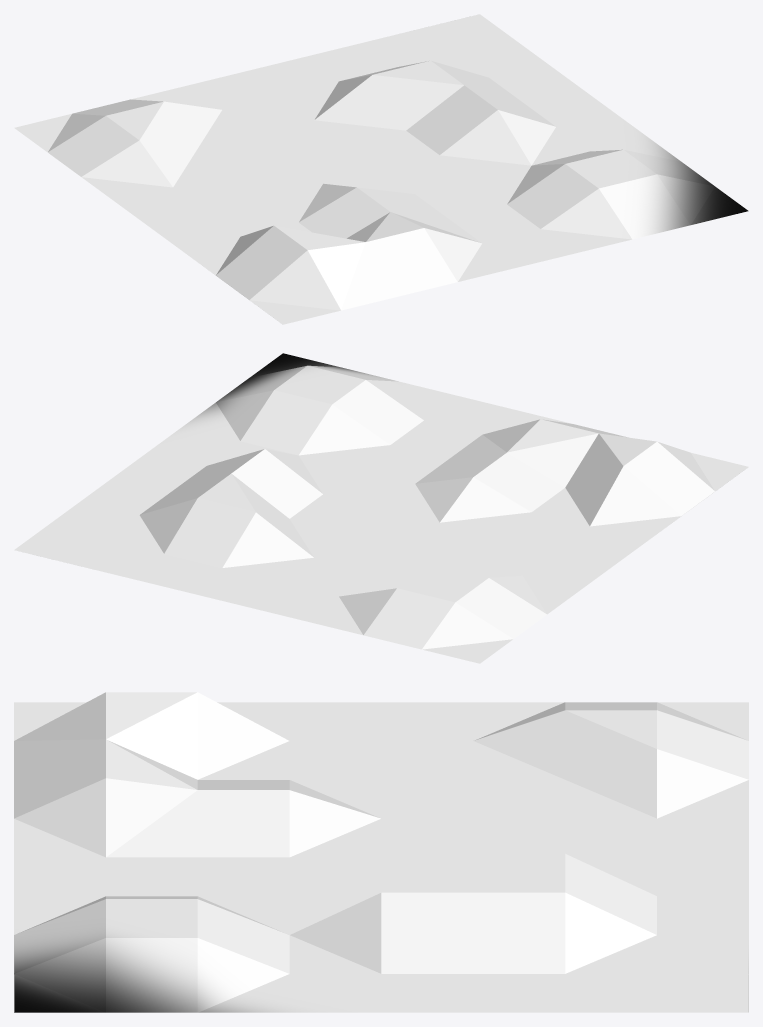
File: TestGround.obj
3 views of the same model, one above another, from view 1: azimuth 30°, elevation 25°; view 2: azimuth 150°, elevation 25°; view 3: azimuth 270°, elevation 25° (orthographic). The views are drawn at different scales.
Parts seen in each view (by area): view 1: 平面; view 2: 平面; view 3: 平面.
Part boxes in pixels (<box>): 平面: <box>14,14,748,324</box>; 平面: <box>14,353,748,663</box>; 平面: <box>14,692,748,1012</box>.
Bounding box in the file's own units: 20 × 1.47 × 20.
